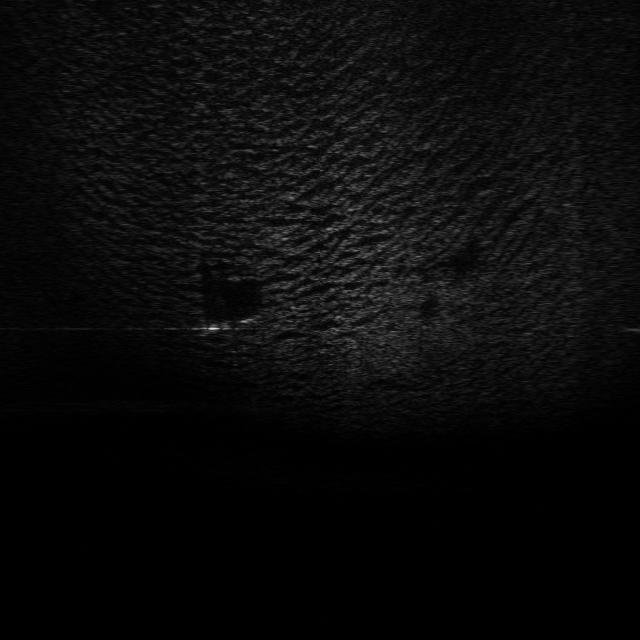plane: (194, 307, 270, 340)
